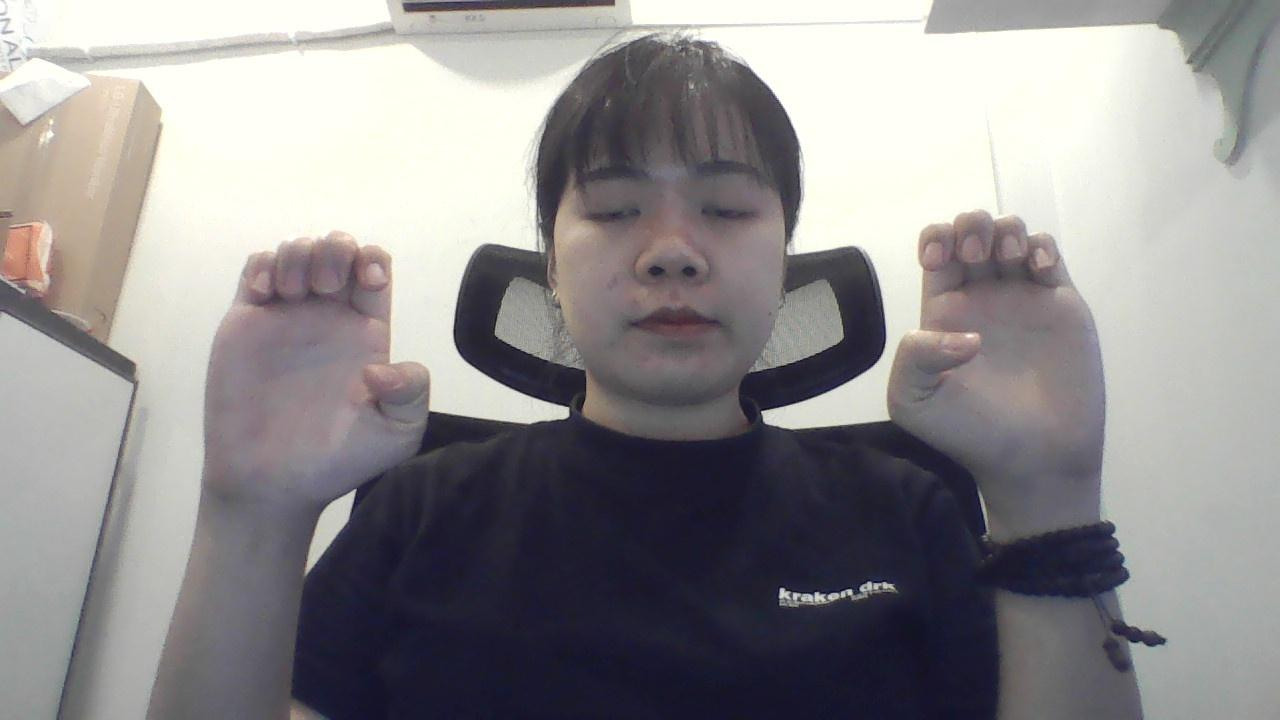E: (200, 215, 439, 526), (872, 202, 1119, 501)
